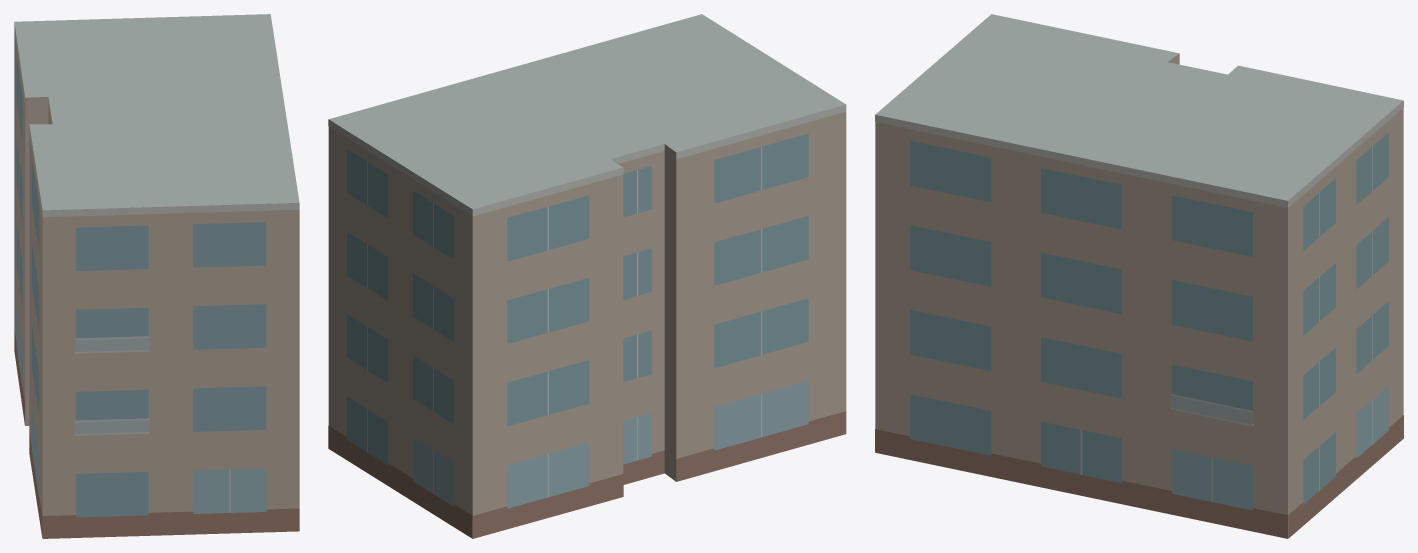
The model's file is survey-upis-32894325.glb.
3 renders of one model, left to right at view 1: azimuth 30°, elevation 25°; view 2: azimuth 150°, elevation 25°; view 3: azimuth 270°, elevation 25°, orthographic. The views are drawn at different scales.
Parts seen in each view (by area): view 1: survey-upis-32894325.tmp; view 2: survey-upis-32894325.tmp; view 3: survey-upis-32894325.tmp.
Part boxes in pixels (left/top/right/bottom): survey-upis-32894325.tmp: left=14, top=14, right=299, bottom=538; survey-upis-32894325.tmp: left=328, top=14, right=846, bottom=538; survey-upis-32894325.tmp: left=875, top=14, right=1403, bottom=538.
Bounding box in the file's own units: 13.77 × 11.6 × 16.45.
